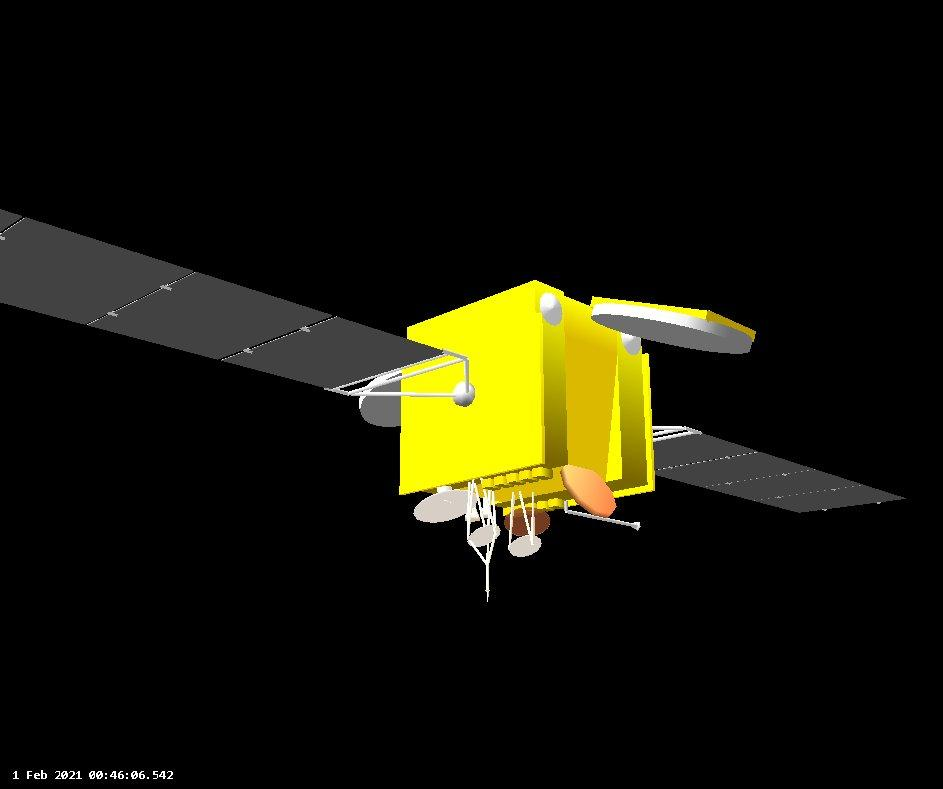antenna: (588, 295, 759, 360), (353, 365, 423, 431), (559, 464, 617, 516), (412, 485, 476, 525), (504, 504, 554, 539), (466, 518, 502, 553), (509, 533, 544, 560)
body: (394, 273, 661, 524)
solar: (0, 200, 480, 409), (654, 415, 909, 520)
